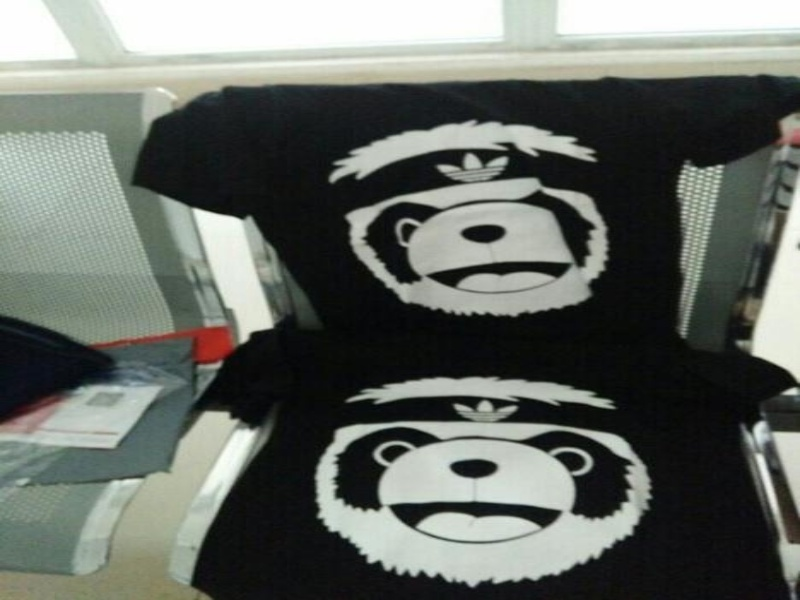short_sleeved_shirt: (126, 76, 795, 355), (188, 319, 795, 599)
